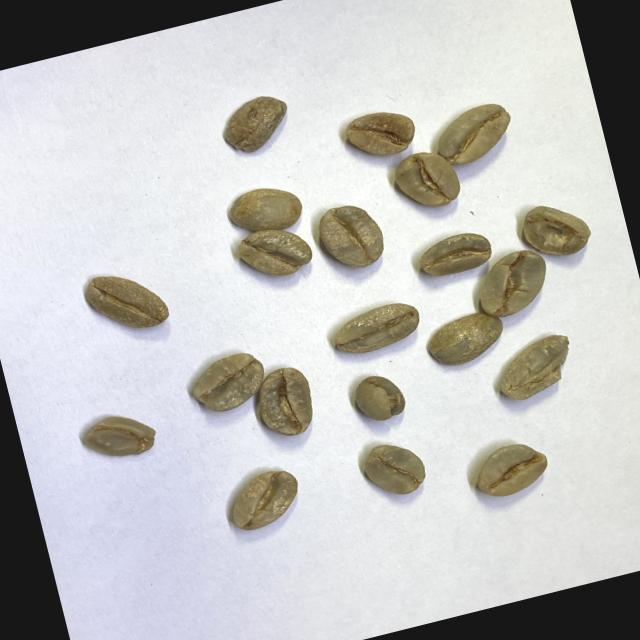bad: (488, 330, 580, 404), (469, 245, 555, 323), (515, 193, 596, 266), (213, 89, 298, 158), (76, 402, 162, 470), (470, 436, 555, 502), (348, 367, 409, 426)
good: (79, 261, 171, 343), (429, 96, 519, 168), (325, 296, 425, 359), (247, 361, 320, 445), (222, 463, 308, 534), (314, 194, 389, 274), (188, 346, 272, 416), (388, 143, 466, 216), (421, 305, 508, 370), (233, 219, 316, 287), (224, 178, 308, 244), (341, 100, 422, 165), (358, 432, 433, 502), (413, 225, 495, 282)
